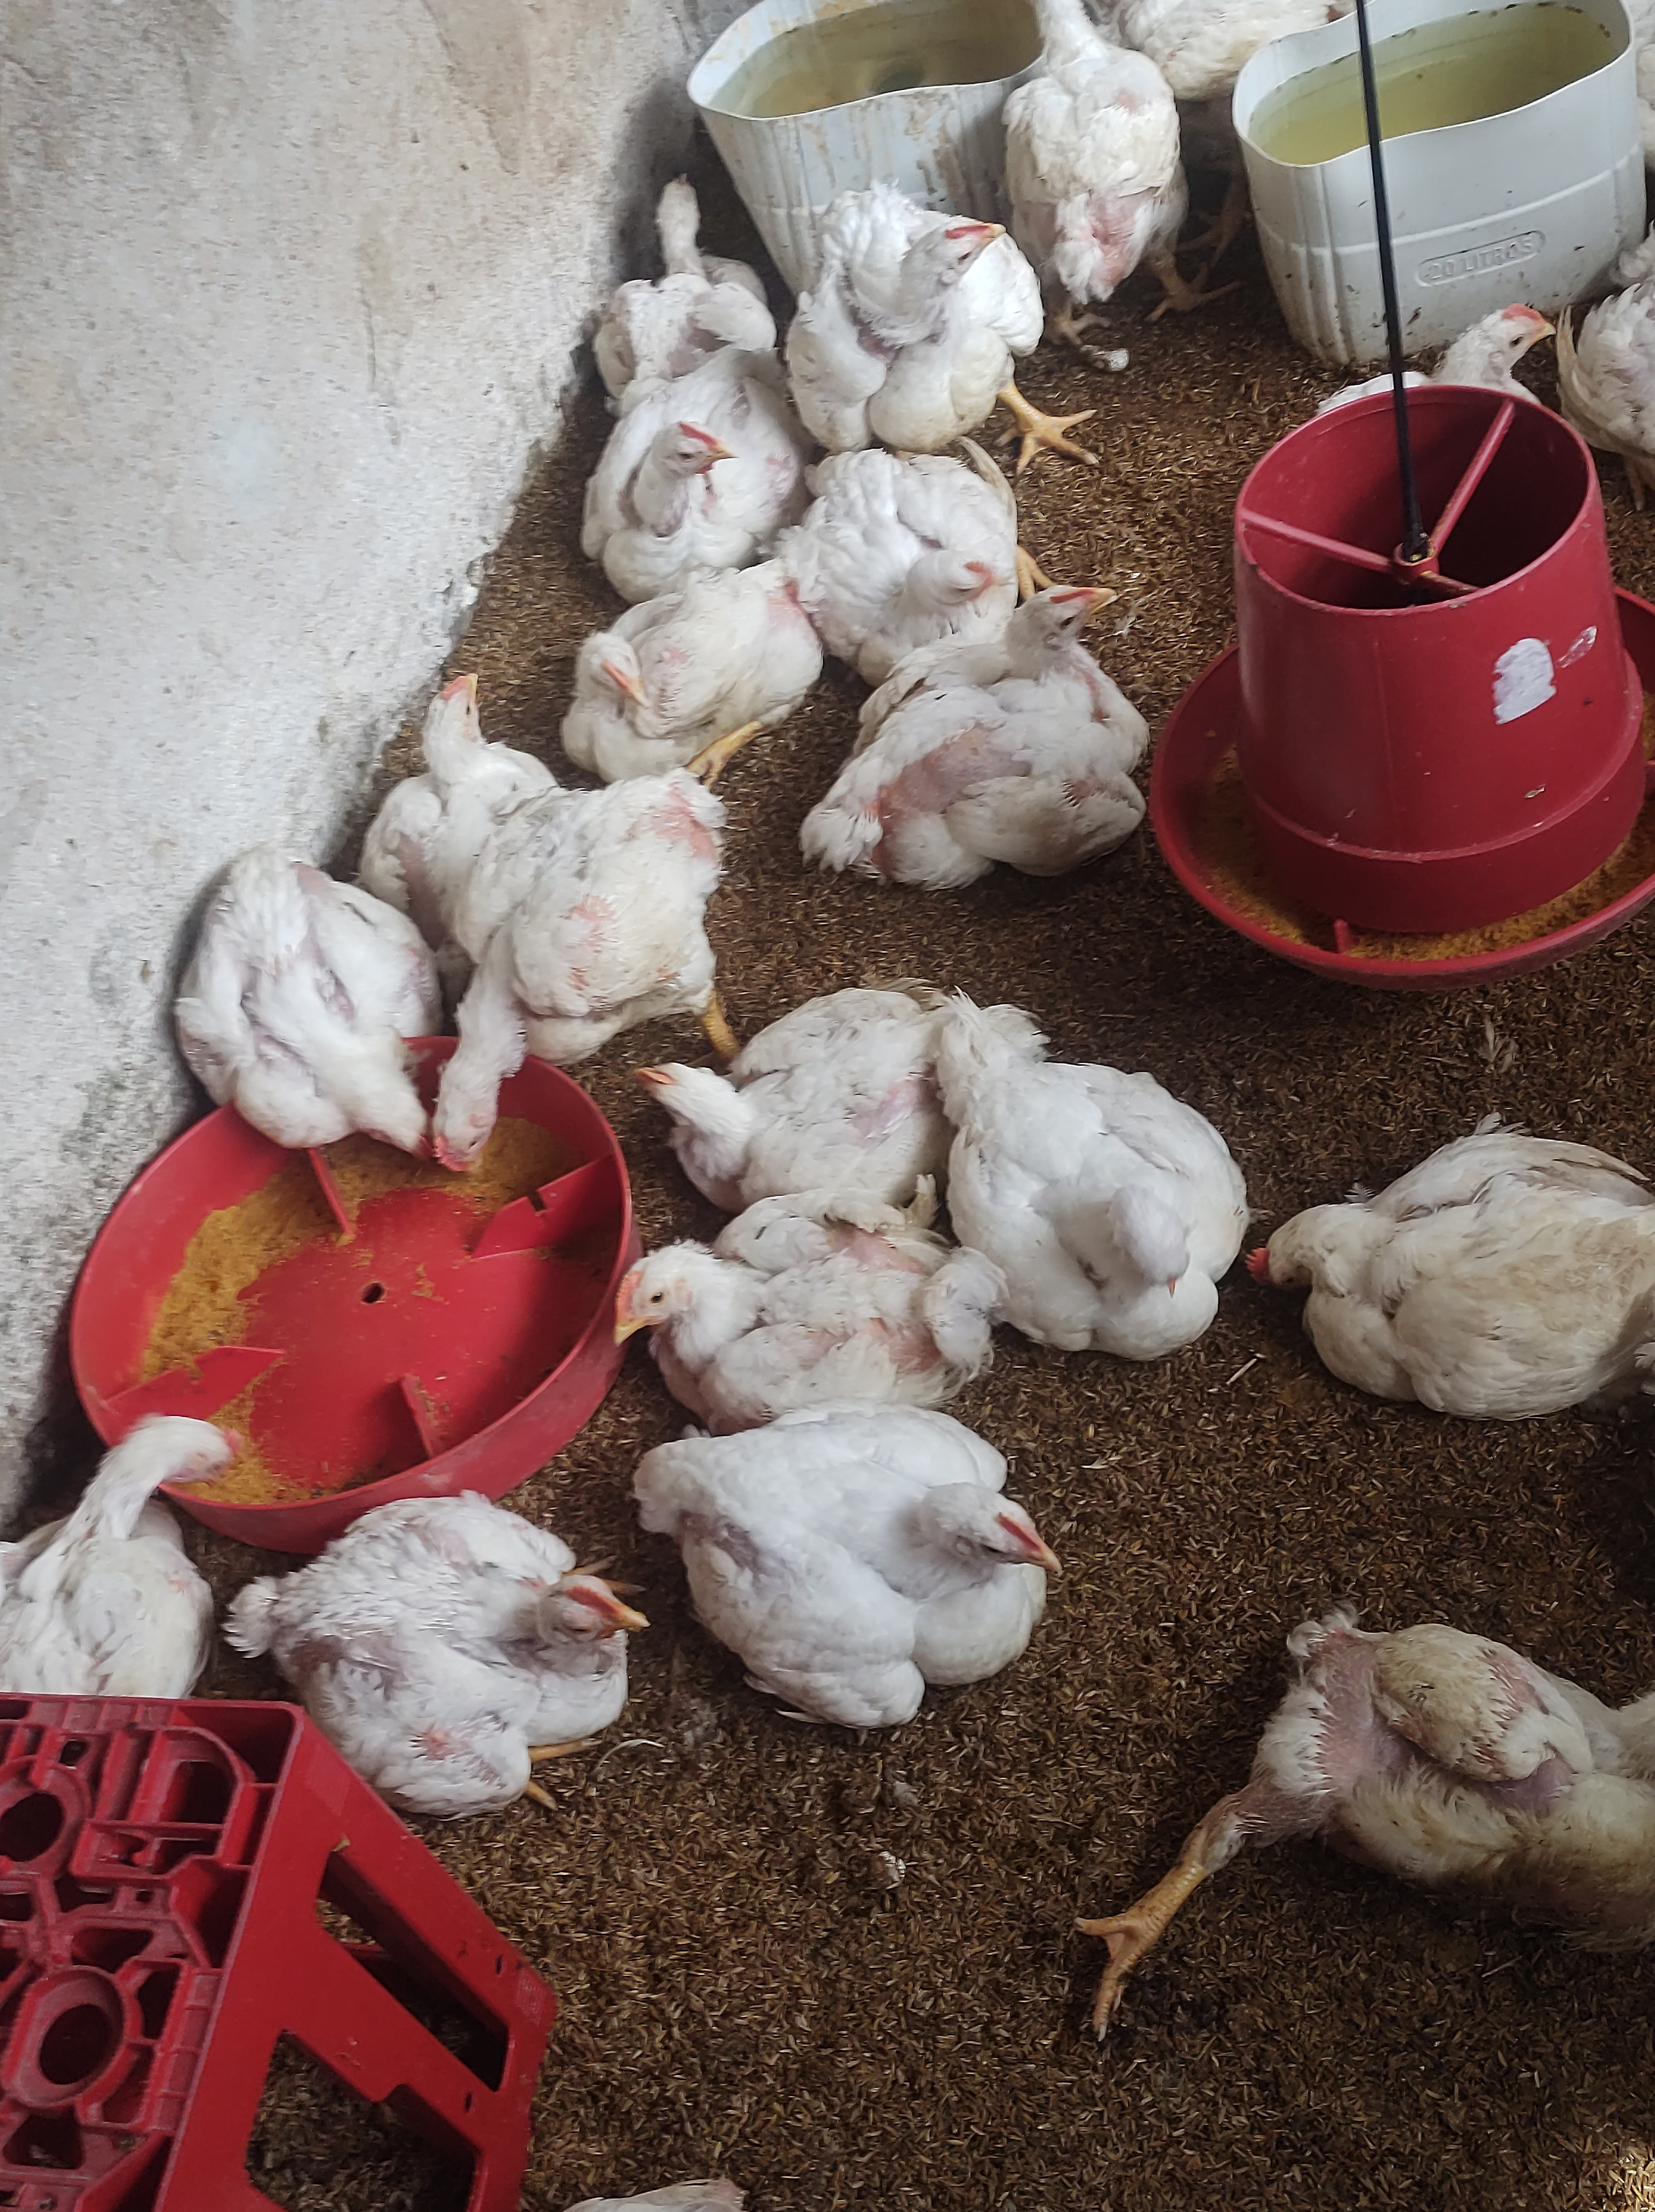Pollos: (1085, 1591, 1655, 2071), (424, 767, 770, 1228), (654, 1396, 1090, 1756), (259, 1456, 657, 1824), (1240, 1092, 1655, 1445), (827, 548, 1201, 897), (0, 1369, 283, 1829), (939, 976, 1250, 1369), (163, 824, 421, 1228), (944, 0, 1253, 330), (575, 1184, 977, 1426), (605, 976, 939, 1188), (541, 544, 822, 791), (798, 198, 1047, 456), (570, 358, 822, 567), (812, 450, 1041, 645), (575, 155, 770, 369), (1332, 263, 1584, 426), (372, 659, 535, 854), (1570, 190, 1655, 471)
